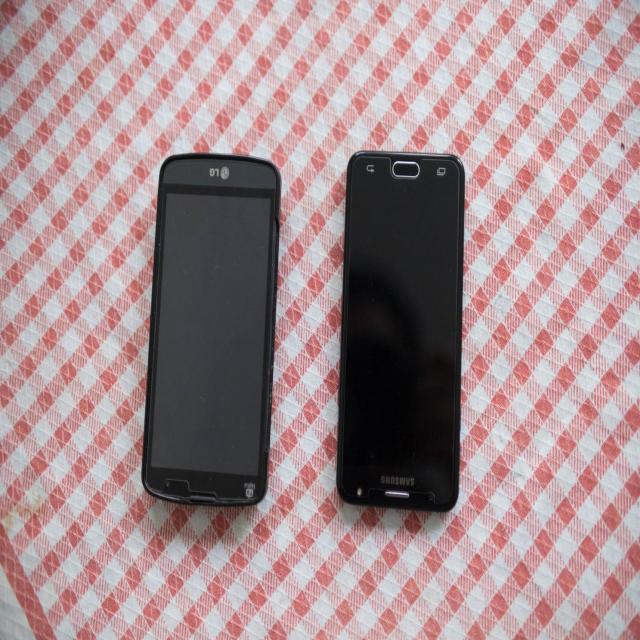Phone: (142, 153, 280, 507), (336, 148, 465, 509)
